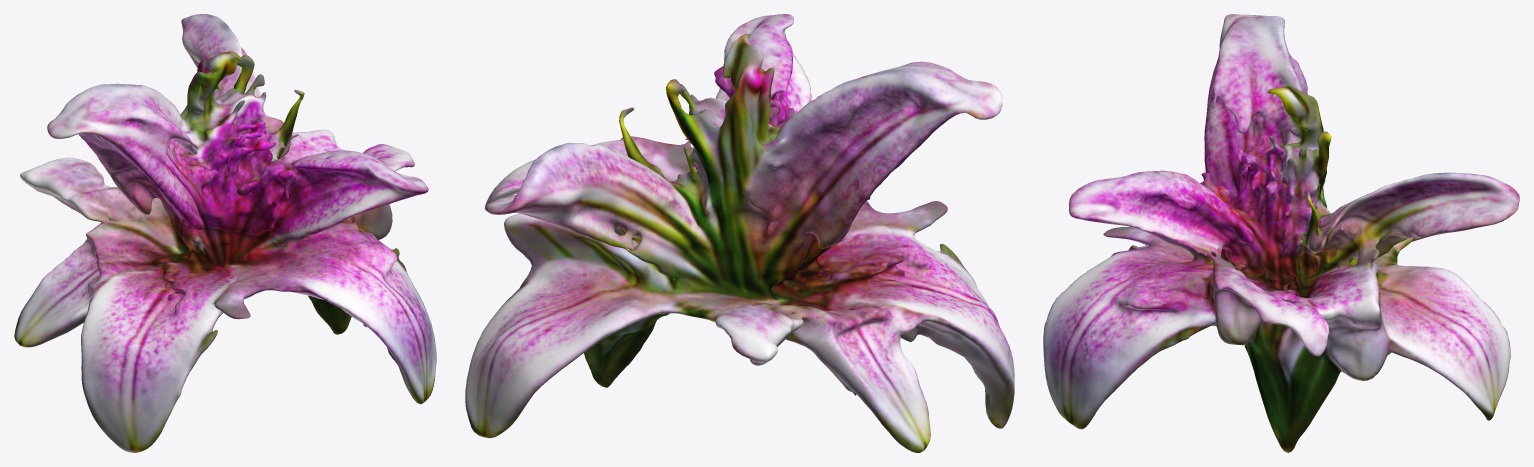
File: lily_flower.glb
3 views of the same model, side by side, from view 1: azimuth 30°, elevation 25°; view 2: azimuth 150°, elevation 25°; view 3: azimuth 270°, elevation 25° (orthographic). The views are drawn at different scales.
Visible parts, largest first — view 1: geometry_0; view 2: geometry_0; view 3: geometry_0.
Part boxes in pixels (x1,y1,x2,y2): geometry_0: (14,14,436,452); geometry_0: (465,14,1014,452); geometry_0: (1043,14,1519,452).
Size of the model in its own units: 0.4756 by 0.377 by 0.5046.
1 material, 1 textured.
